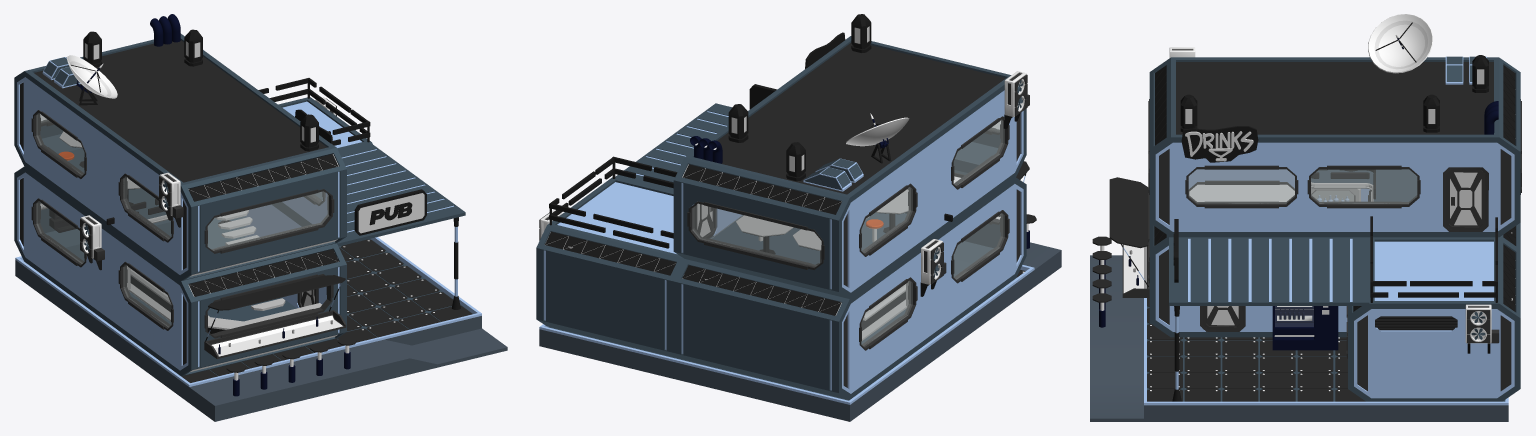
The model's file is PUB.fbx.
3 views of the same model, side by side, from view 1: azimuth 30°, elevation 25°; view 2: azimuth 150°, elevation 25°; view 3: azimuth 270°, elevation 25° (orthographic). The views are drawn at different scales.
Parts seen in each view (by area): view 1: Cube.013, table bar, Cube.014, Plane.003; view 2: Cube.013, Plane.003, table bar, Cylinder.005, Cube.002, Cylinder.002; view 3: Cube.013, Cube.002, Plane.003, Plane.005, Curve, Cube.022, Cube.003, Cube.005, Cube.004.
Part boxes in pixels (x1,y1,x2,y2): Cube.013: (14, 14, 507, 421); table bar: (129, 269, 321, 333); Cube.014: (215, 210, 285, 310); Plane.003: (68, 149, 167, 223); Cube.013: (536, 14, 1061, 421); Plane.003: (711, 212, 906, 264); table bar: (861, 284, 906, 340); Cylinder.005: (736, 215, 793, 254); Cube.002: (695, 202, 716, 238); Cylinder.002: (876, 189, 908, 232); Cube.013: (1090, 14, 1521, 421); Cube.002: (1446, 169, 1485, 229); Plane.003: (1311, 169, 1417, 201); Plane.005: (1181, 126, 1258, 162); Curve: (1185, 131, 1253, 161); Cube.022: (1203, 306, 1242, 329); Cube.003: (1443, 167, 1488, 231); Cube.005: (1311, 188, 1360, 201); Cube.004: (1312, 191, 1353, 201).
Size of the model in its own units: 4.66 by 3.59 by 5.39.
